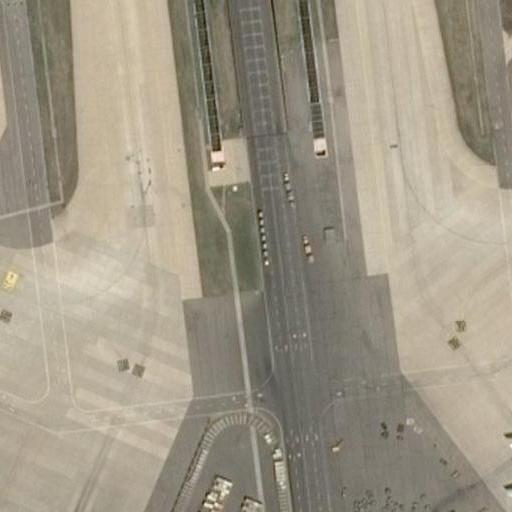Aircraft: (494, 403, 512, 512)
